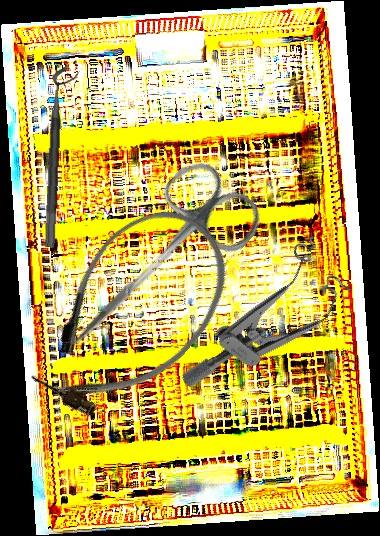Cannula: (7, 183, 256, 445)
Fixation Ring: (43, 66, 80, 249)
Iris Scissors: (38, 150, 271, 385)
Speculum: (178, 223, 364, 430)
